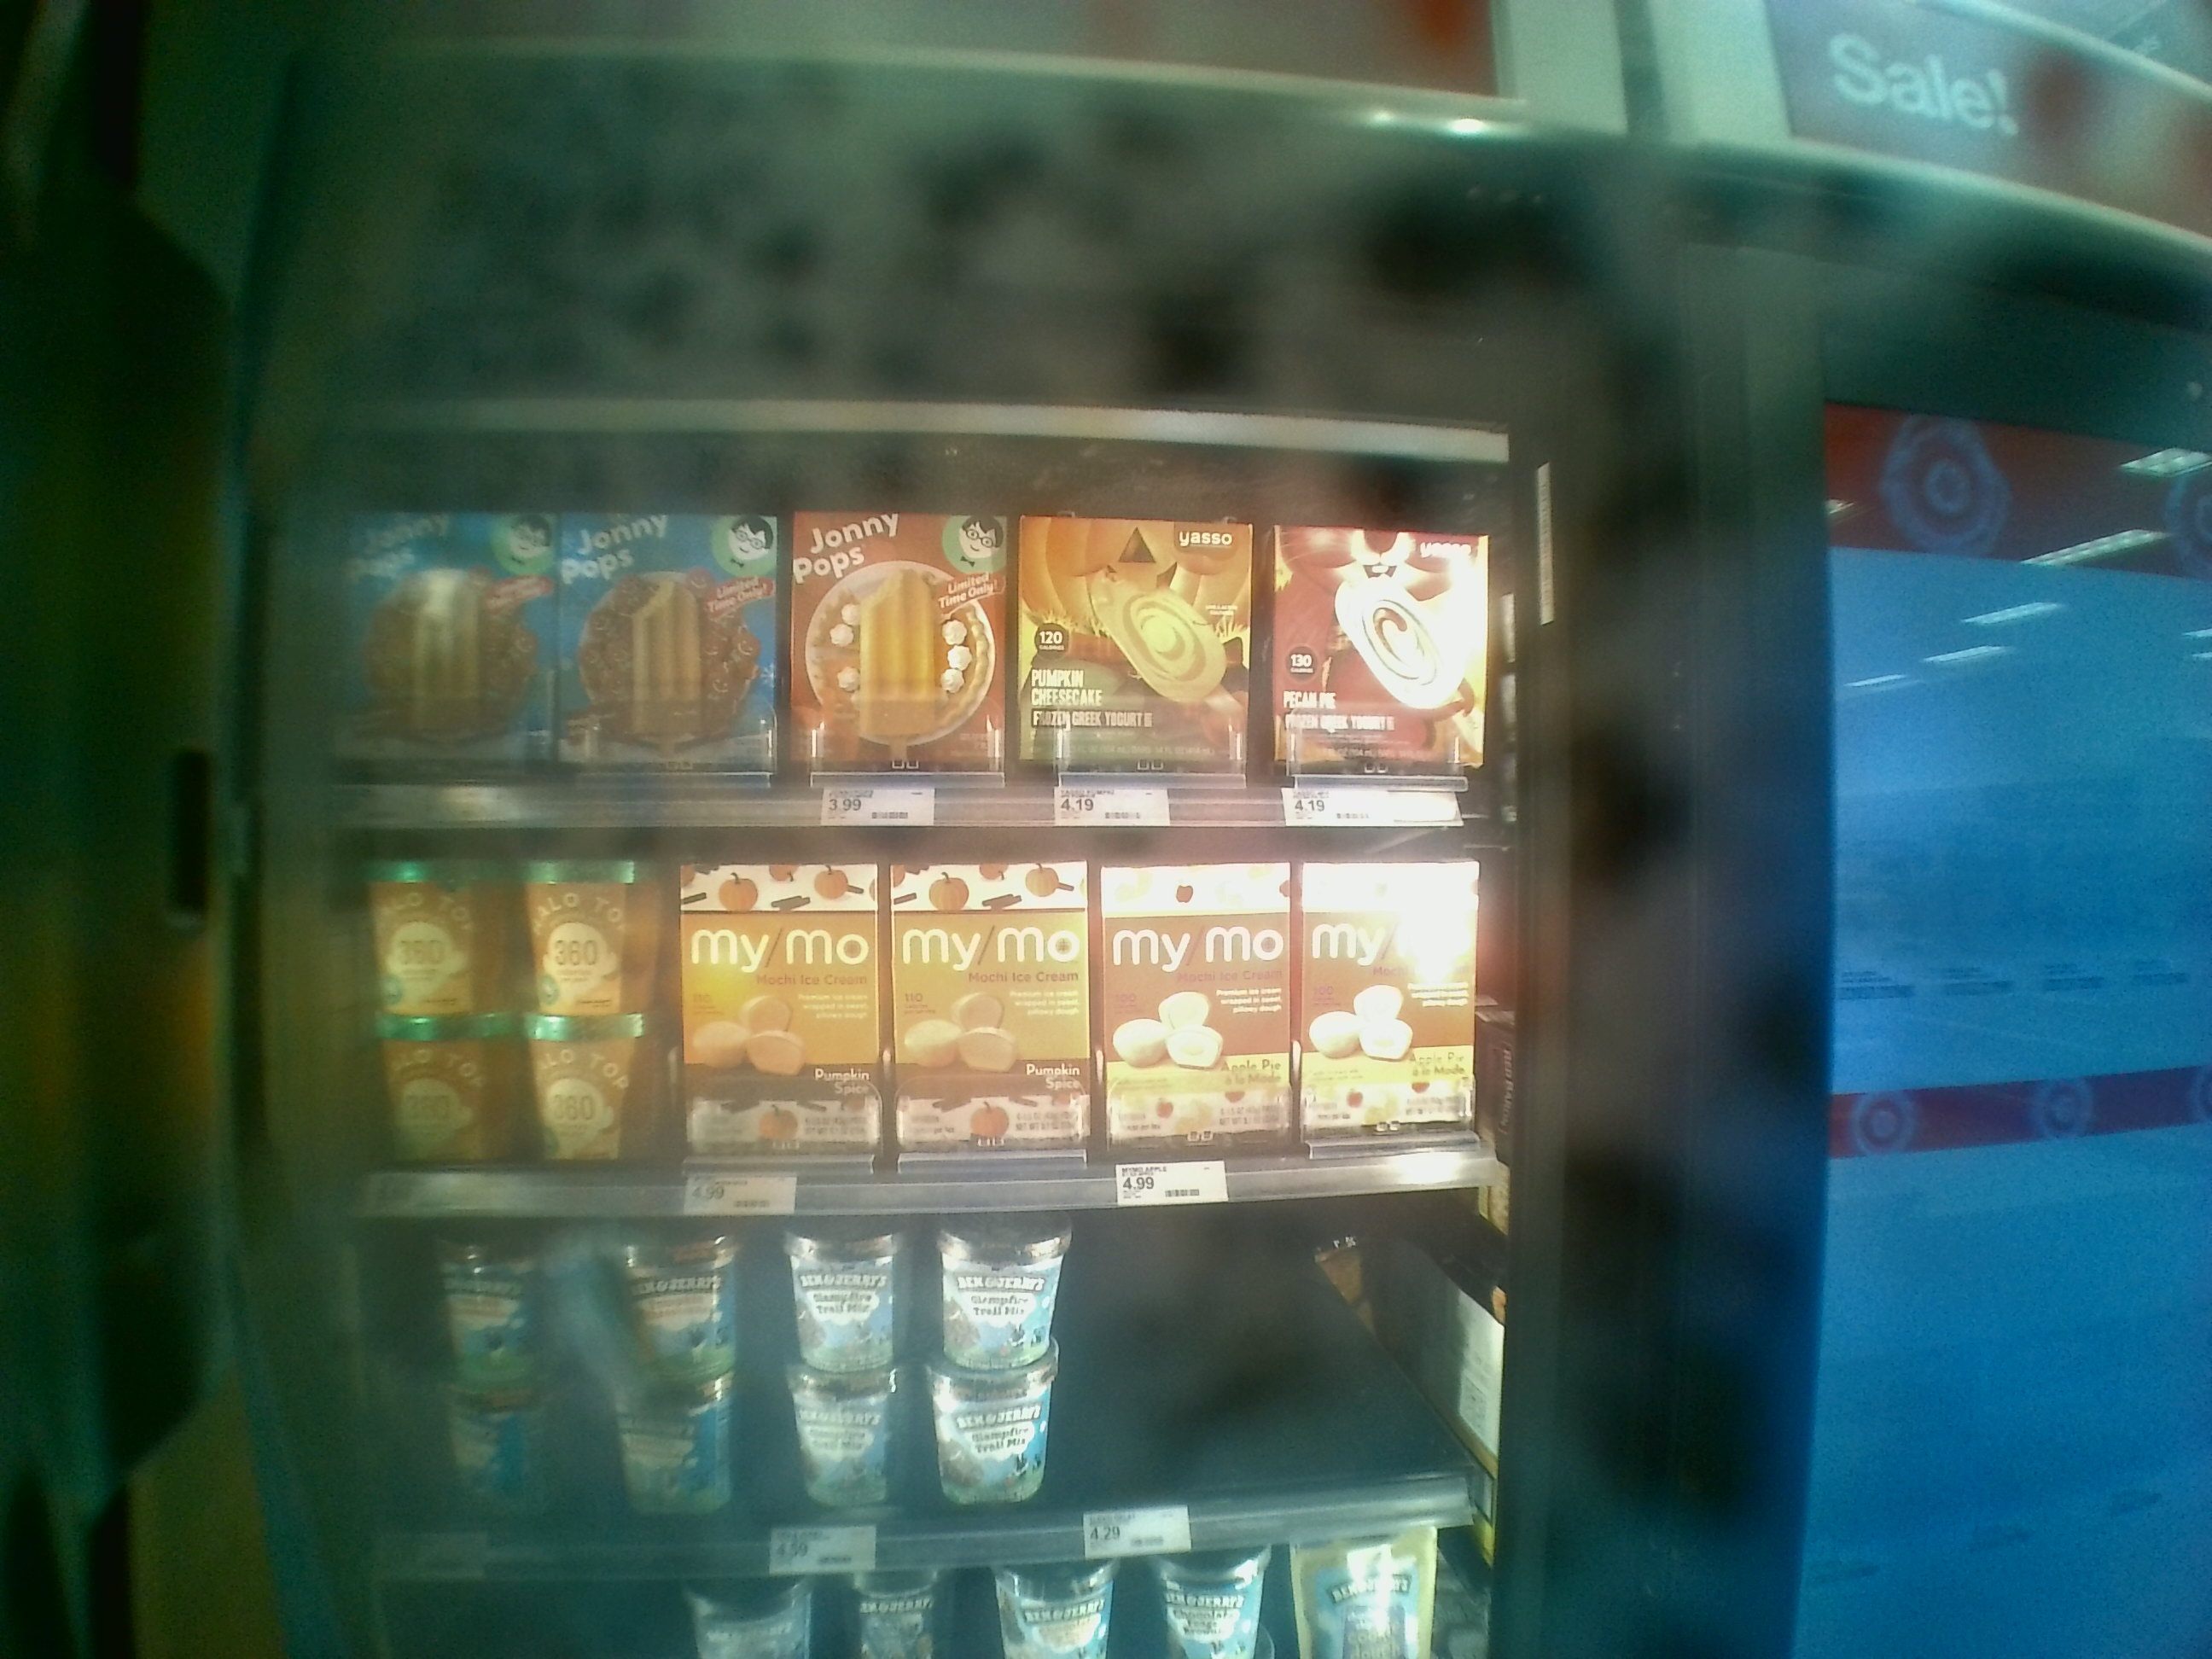shelf: (296, 798, 1496, 1192), (294, 453, 1501, 823), (303, 1169, 1480, 1513)
